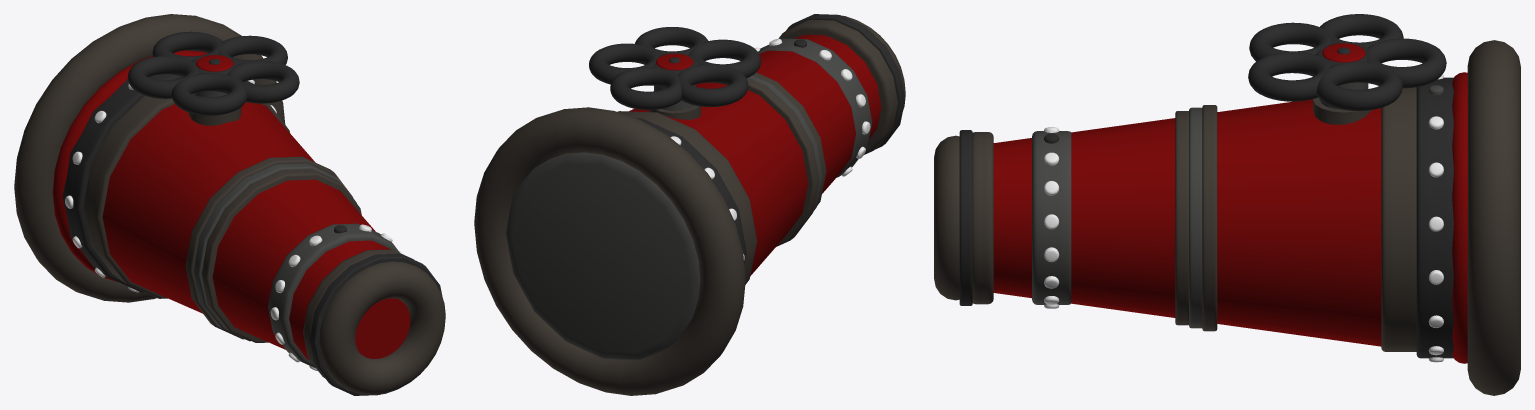
File: FireChlang.fbx
3 views of the same model, side by side, from view 1: azimuth 30°, elevation 25°; view 2: azimuth 150°, elevation 25°; view 3: azimuth 270°, elevation 25° (orthographic). The views are drawn at different scales.
Parts seen in each view (by area): view 1: Cone, Torus_1, Torus, Cylinder_6_2, Cylinder_5_2, Cylinder_2, Cylinder_3, Torus_2, Torus_7, Cylinder_7, Cylinder_4, Torus_6 (+7 smaller); view 2: Cylinder_8, Torus_1, Cone, Cylinder_2_2, Cylinder_6_2, Cylinder_2, Torus_5, Torus_3, Cylinder_7, Torus_4, Torus_7, Cylinder_1_2 (+6 smaller); view 3: Cone, Torus_1, Cylinder_5_2, Cylinder_6_2, Cylinder_2, Torus_2, Torus, Cylinder_2_2, Cylinder_7, Torus_4, Cylinder_4, Torus_6 (+7 smaller).
Boxes of the visible parts, x1,y1,x2,y2 form: Cone: (102,102,410,359); Torus_1: (14,14,285,302); Torus: (319,261,445,395); Cylinder_6_2: (83,93,289,298); Cylinder_5_2: (62,74,253,292); Cylinder_2: (268,223,399,368); Cylinder_3: (201,170,361,342); Torus_2: (52,50,254,281); Torus_7: (171,73,247,115); Cylinder_7: (185,156,352,339); Cylinder_4: (193,163,356,341); Torus_6: (227,61,299,103); Cylinder_8: (506,152,700,359); Torus_1: (474,107,745,395); Cone: (629,34,881,275); Cylinder_2_2: (778,19,898,154); Cylinder_6_2: (617,111,757,284); Cylinder_2: (758,38,872,177); Torus_5: (610,67,681,109); Torus_3: (678,64,748,106); Cylinder_7: (746,77,819,246); Torus_4: (589,43,660,84); Torus_7: (688,39,760,78); Cylinder_1_2: (786,14,905,148); Cone: (993,99,1381,346); Torus_1: (1467,40,1520,395); Cylinder_5_2: (1416,77,1453,358); Cylinder_6_2: (1381,87,1416,351); Cylinder_2: (1032,131,1071,304); Torus_2: (1452,72,1467,363); Torus: (934,135,959,300); Cylinder_2_2: (972,132,993,304); Cylinder_7: (1202,105,1217,331); Torus_4: (1316,61,1402,110); Cylinder_4: (1189,107,1202,328); Torus_6: (1248,52,1331,101).
Bounding box in the file's own units: 15.3 × 15.63 × 25.2.
